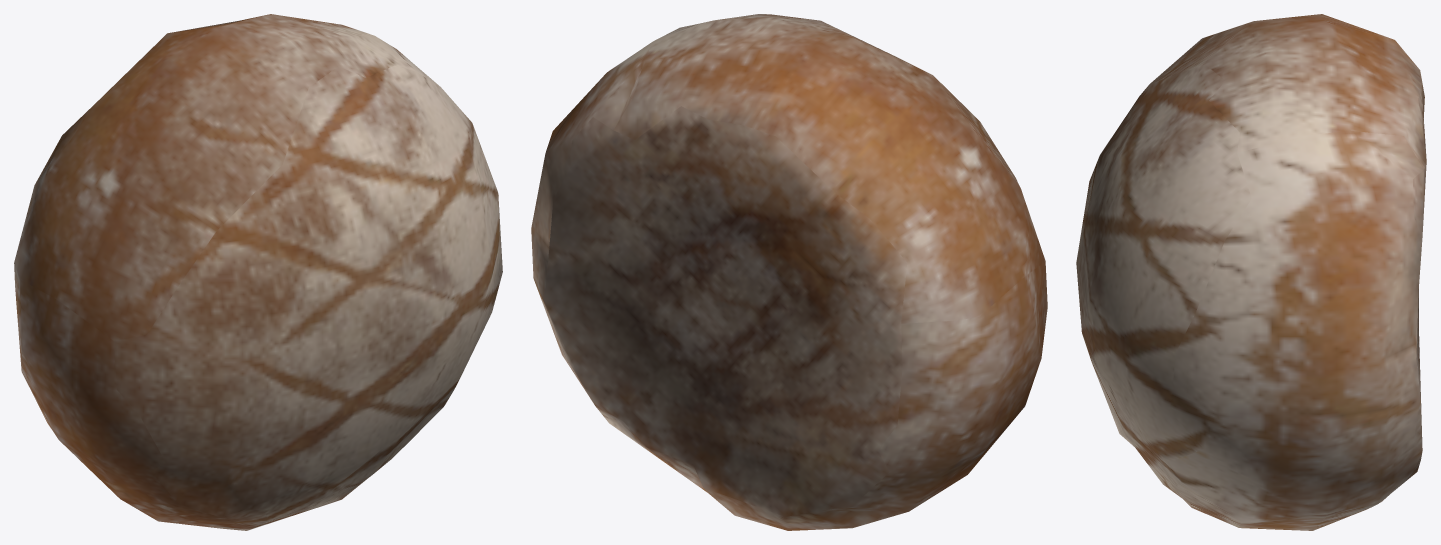
The picture shows the model from 3 angles, left to right: view 1: azimuth 30°, elevation 25°; view 2: azimuth 150°, elevation 25°; view 3: azimuth 270°, elevation 25°; orthographic projection. The views are drawn at different scales.
Parts seen in each view (by area): view 1: bread.001_3; view 2: bread.001_3; view 3: bread.001_3.
Boxes of the visible parts, x1,y1,x2,y2 form: bread.001_3: [14, 14, 502, 530]; bread.001_3: [531, 14, 1047, 530]; bread.001_3: [1076, 14, 1426, 530].
Size of the model in its own units: 0.0445 by 0.0449 by 0.0291.
1 material, 1 textured.
